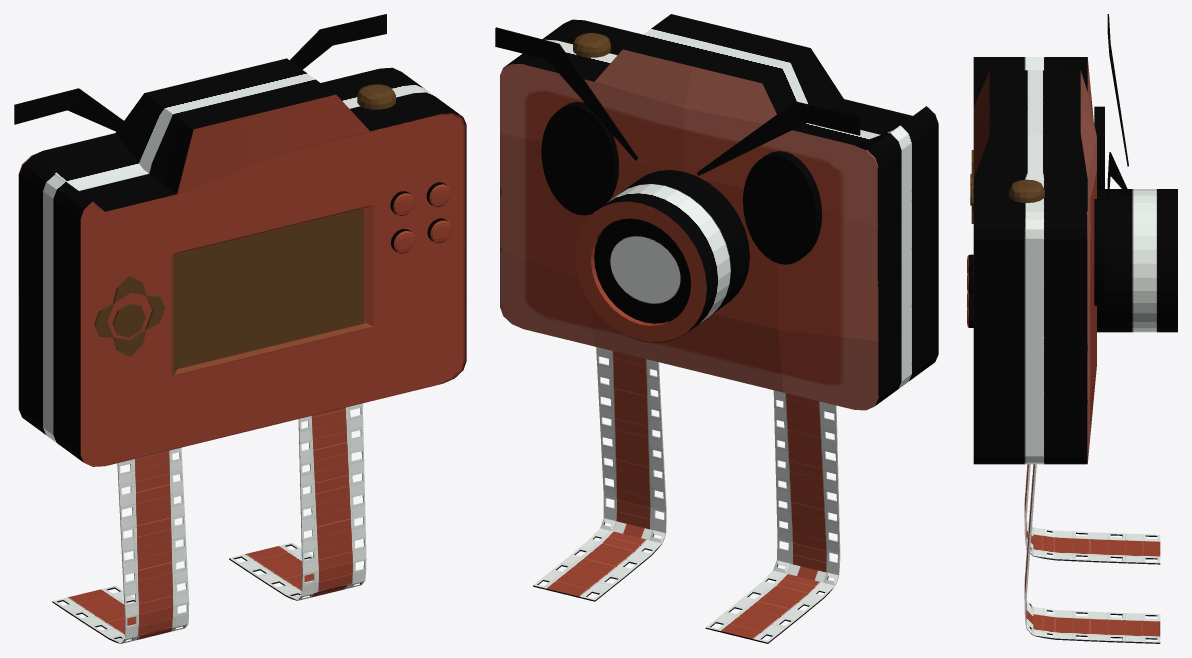
Rendered from Enemigo 2.fbx.
3 renders of one model, left to right at view 1: azimuth 30°, elevation 25°; view 2: azimuth 150°, elevation 25°; view 3: azimuth 270°, elevation 25°, orthographic. The views are drawn at different scales.
Visible parts, largest first — view 1: ojo.izq, Pierna.der, Pierna.izq, cejas.L, cejas.R; view 2: ojo.izq, Pierna.der, Pierna.izq, cejas.L, cejas.R; view 3: ojo.izq, Pierna.der, Pierna.izq, cejas.L, cejas.R.
Part boxes in pixels (x1=…): ojo.izq: x1=18, y1=58, x2=466, y2=466; Pierna.der: x1=229, y1=403, x2=366, y2=600; Pierna.izq: x1=52, y1=447, x2=189, y2=643; cejas.L: x1=14, y1=88, x2=123, y2=131; cejas.R: x1=289, y1=14, x2=386, y2=69; ojo.izq: x1=500, y1=14, x2=938, y2=410; Pierna.der: x1=533, y1=347, x2=666, y2=601; Pierna.izq: x1=705, y1=390, x2=840, y2=643; cejas.L: x1=697, y1=101, x2=860, y2=175; cejas.R: x1=495, y1=27, x2=637, y2=160; ojo.izq: x1=967, y1=57, x2=1177, y2=464; Pierna.der: x1=1024, y1=464, x2=1160, y2=643; Pierna.izq: x1=1024, y1=464, x2=1160, y2=564; cejas.L: x1=1107, y1=14, x2=1128, y2=166; cejas.R: x1=1107, y1=152, x2=1128, y2=199.
Bounding box in the file's own units: 299 × 395 × 154.
Materials: 5 (5 with a texture image).
